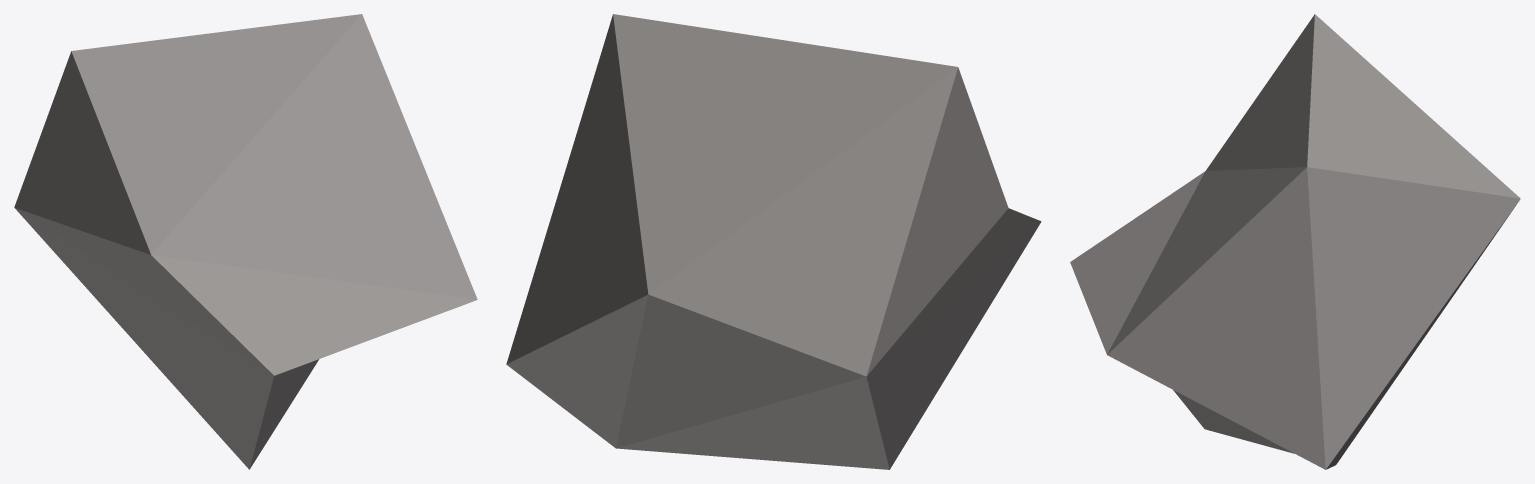
File: rock1.fbx
3 views of the same model, side by side, from view 1: azimuth 30°, elevation 25°; view 2: azimuth 150°, elevation 25°; view 3: azimuth 270°, elevation 25° (orthographic). The views are drawn at different scales.
Visible parts, largest first — view 1: Cube.001; view 2: Cube.001; view 3: Cube.001.
Part boxes in pixels (bbox=[...]): Cube.001: bbox=[14, 14, 477, 469]; Cube.001: bbox=[506, 14, 1041, 469]; Cube.001: bbox=[1070, 14, 1520, 469].
Size of the model in its own units: 328 by 347 by 390.
